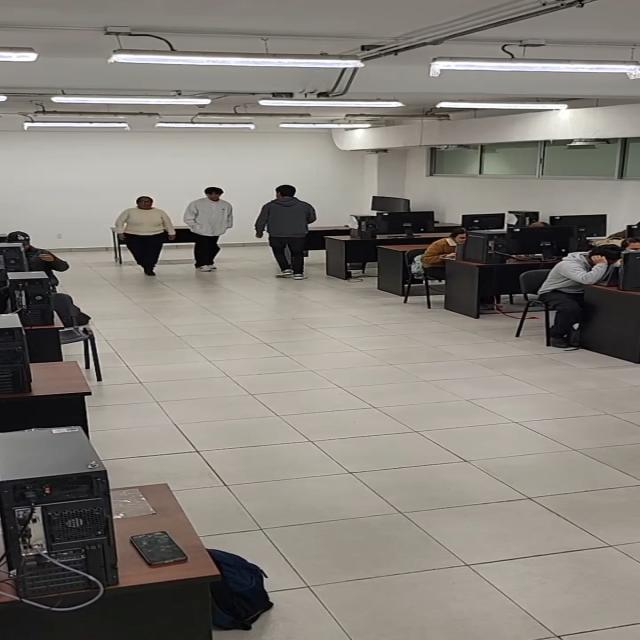Persona: (253, 183, 322, 283), (110, 193, 178, 280), (180, 184, 238, 275)
